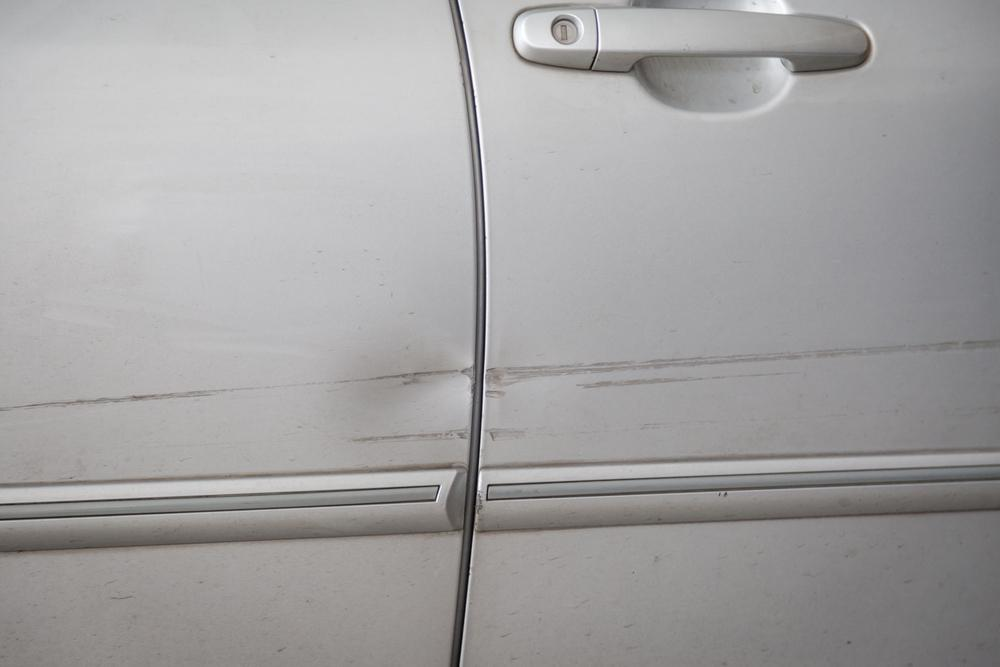dent: (328, 348, 474, 462)
scratch: (486, 331, 1000, 401), (0, 384, 242, 419)
